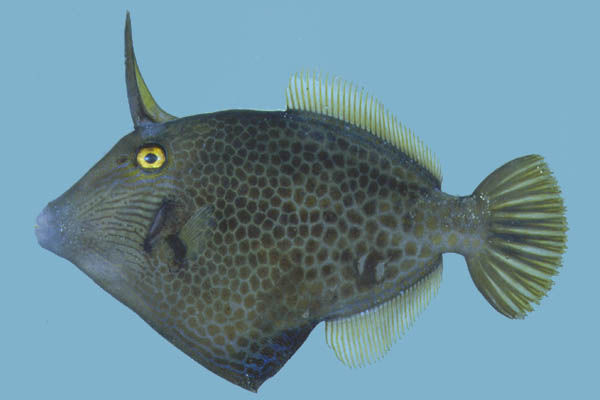fish: (32, 11, 568, 394)
